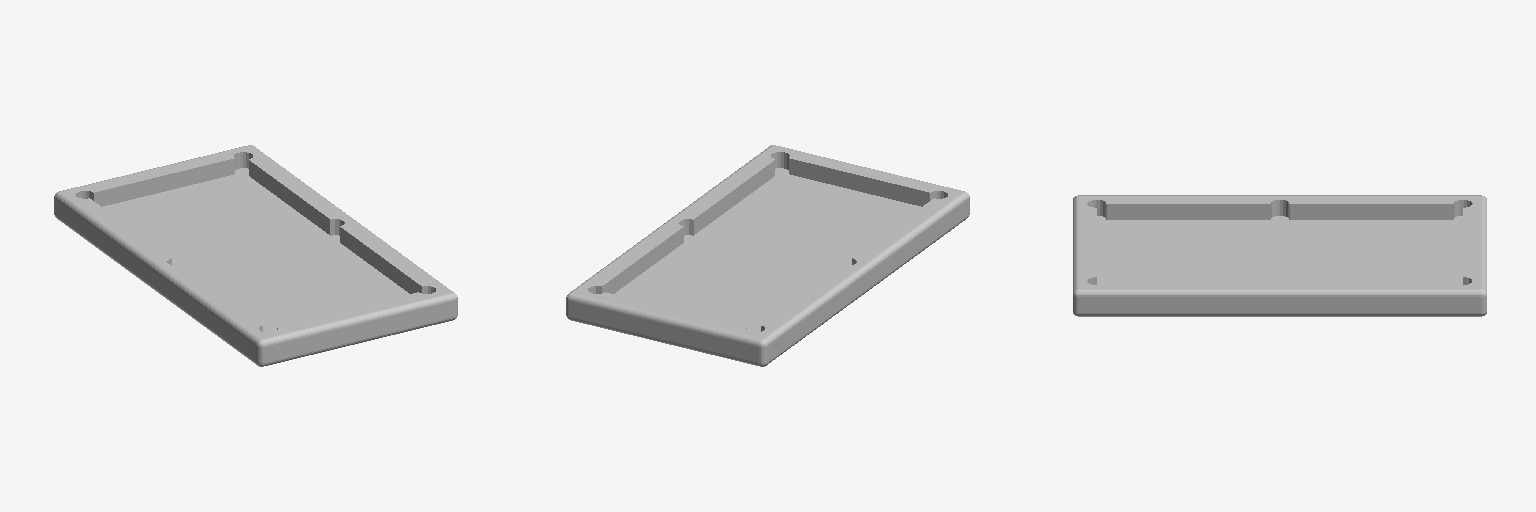
Rendered from tisch.obj.
3 views of the same model, side by side, from view 1: azimuth 30°, elevation 25°; view 2: azimuth 150°, elevation 25°; view 3: azimuth 270°, elevation 25° (orthographic).
Parts seen in each view (by area): view 1: AbgekQuader002; view 2: AbgekQuader002; view 3: AbgekQuader002.
Boxes of the visible parts, box(x1,y1,x2,y2) form: AbgekQuader002: box(54, 145, 457, 366); AbgekQuader002: box(566, 145, 969, 366); AbgekQuader002: box(1073, 195, 1486, 316).
Size of the model in its own units: 95 by 12.29 by 170.